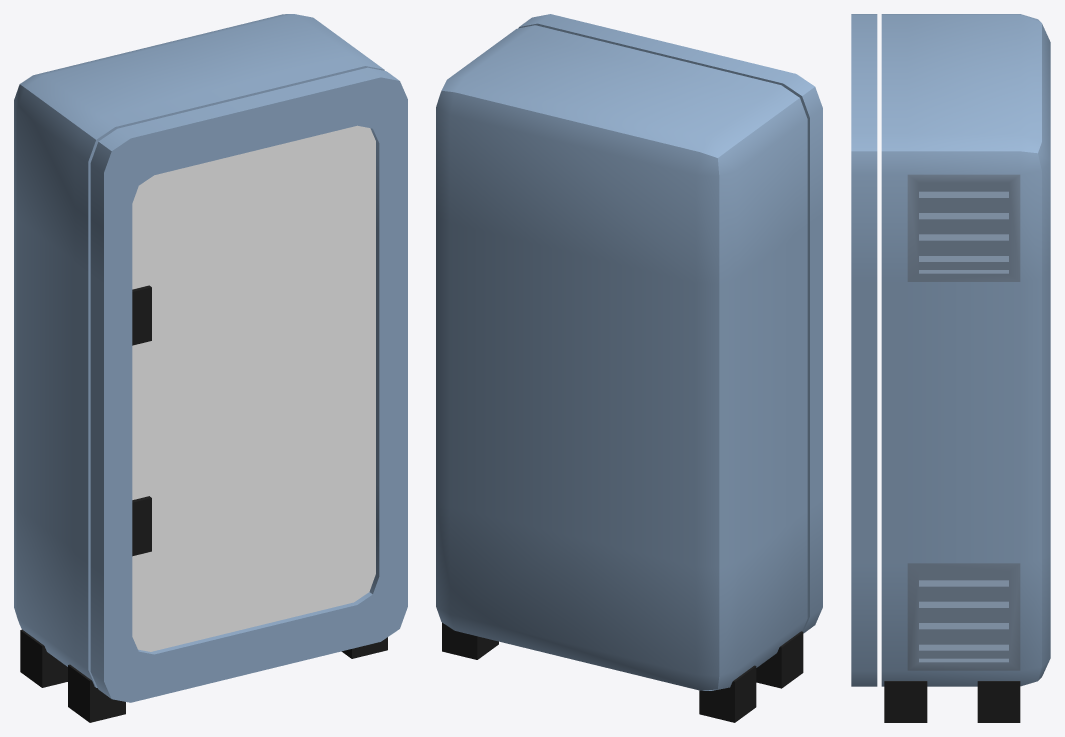
The model's file is Can Fridge.glb.
The picture shows the model from 3 angles, left to right: view 1: azimuth 30°, elevation 25°; view 2: azimuth 150°, elevation 25°; view 3: azimuth 270°, elevation 25°; orthographic projection. The views are drawn at different scales.
Parts seen in each view (by area): view 1: Environment_CanFridge_Door, Environment_CanFridge; view 2: Environment_CanFridge, Environment_CanFridge_Door; view 3: Environment_CanFridge, Environment_CanFridge_Door.
Boxes of the visible parts, bbox=[...] form: Environment_CanFridge_Door: bbox=[90, 67, 407, 702]; Environment_CanFridge: bbox=[14, 14, 387, 722]; Environment_CanFridge: bbox=[436, 25, 807, 722]; Environment_CanFridge_Door: bbox=[518, 14, 822, 633]; Environment_CanFridge: bbox=[881, 14, 1050, 722]; Environment_CanFridge_Door: bbox=[851, 14, 877, 686].
Size of the model in its own units: 2.36 by 4.39 by 1.37.
2 materials, 1 textured.
